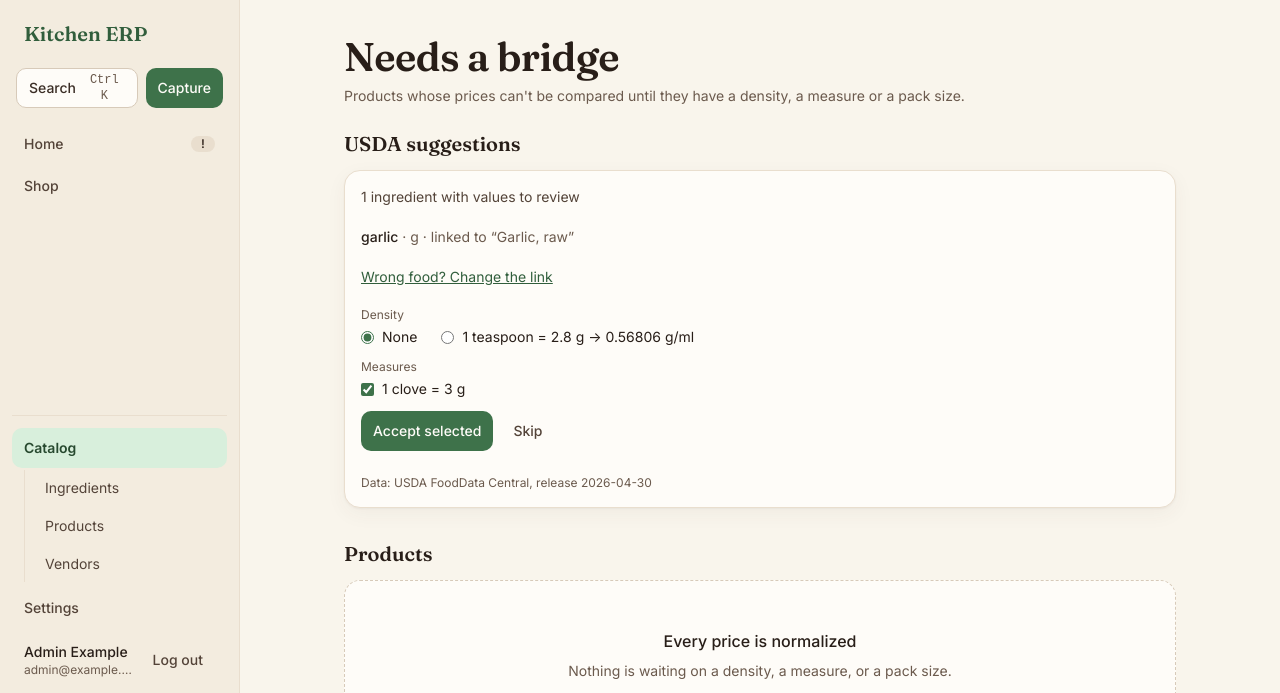
Test: USDA suggestions: changing a wrong food (#359) › changes a wrong USDA food from the row
The image size is (1280, 693).
Click the button "Wrong food? Change the link" at (457, 277), box [361,259,553,295]
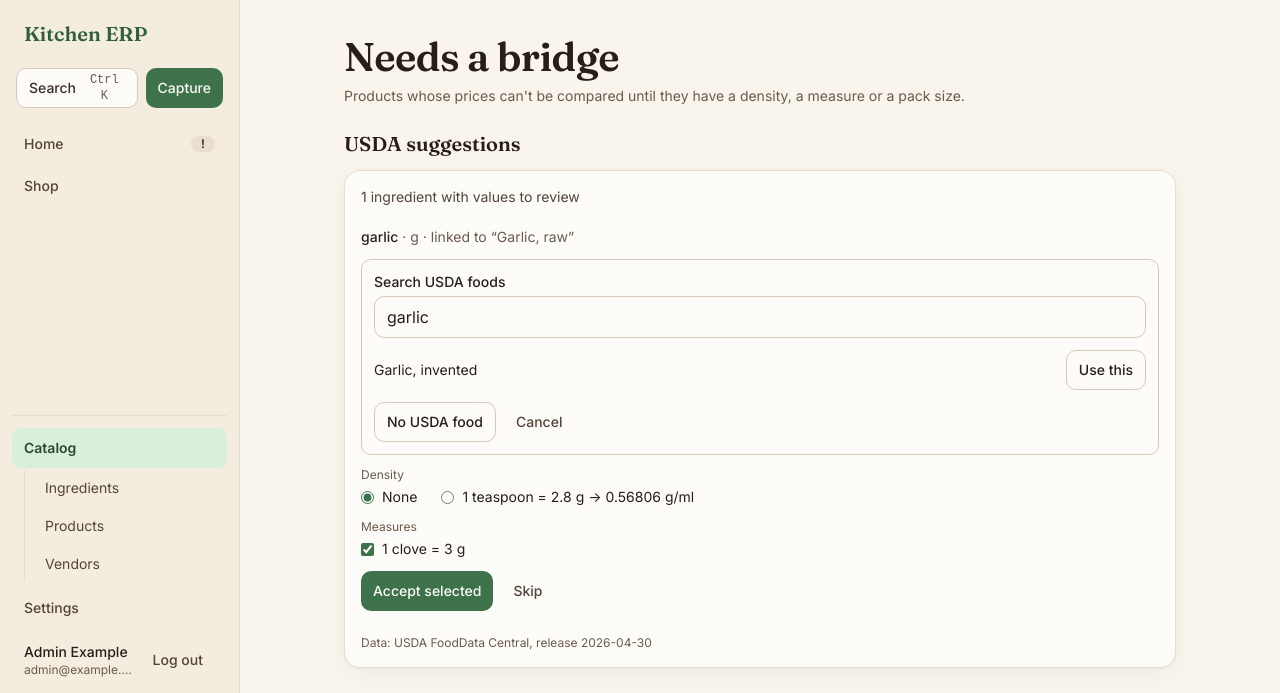
Expected: the field labelled "Search USDA foods" holds "garlic", [374,296,1146,338]
# The food it is linked to now is not offered again.
Click the button with aria-label "Use “Garlic, invented”" at (1106, 370), box [1066,350,1146,390]
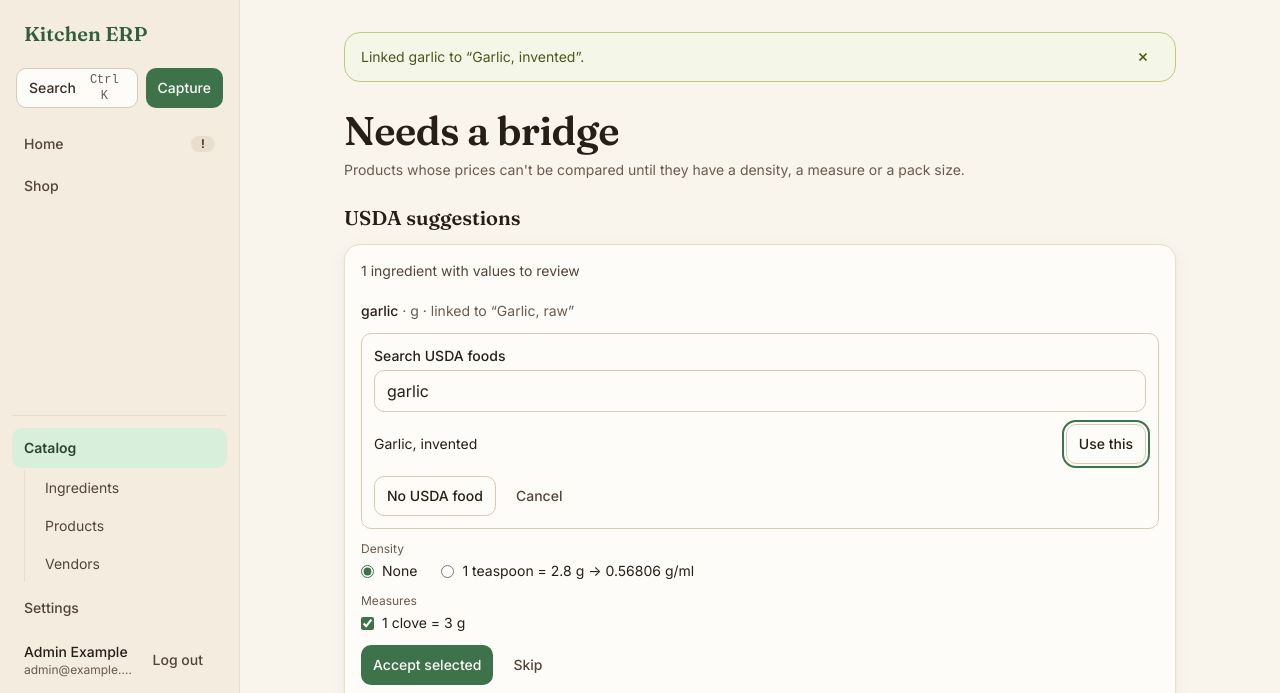
Expected: the message with test id "notice" reads "Linked garlic to “Garlic, invented”.", [361,48,584,65]
